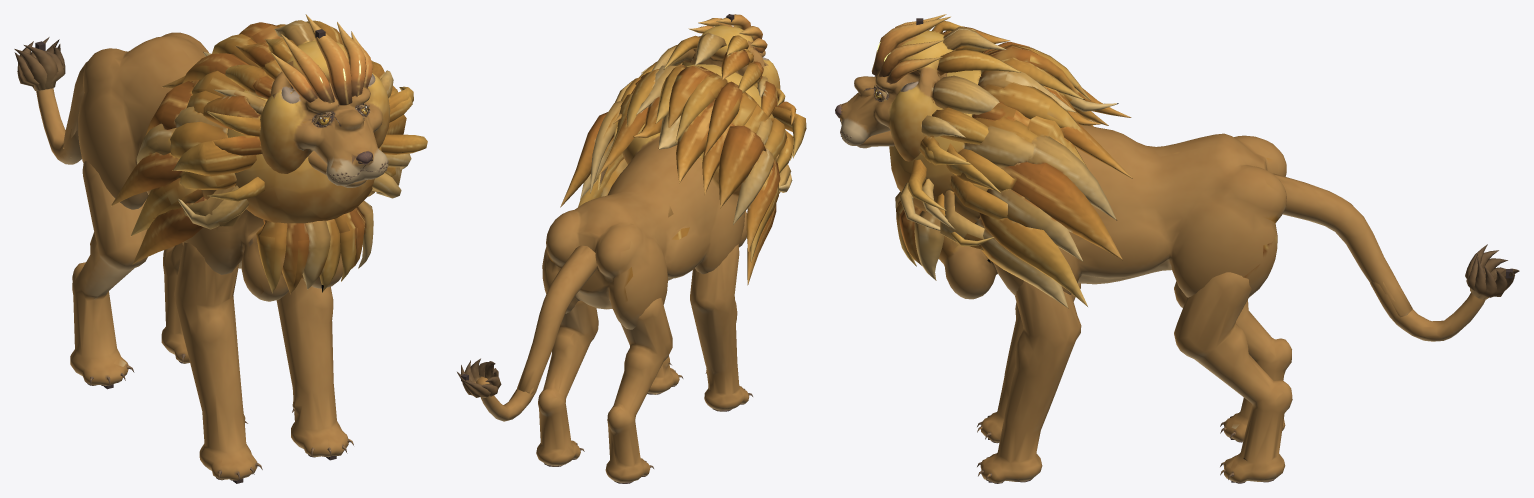
File: GoldenManeLion.fbx
3 views of the same model, side by side, from view 1: azimuth 30°, elevation 25°; view 2: azimuth 150°, elevation 25°; view 3: azimuth 270°, elevation 25° (orthographic). The views are drawn at different scales.
Parts seen in each view (by area): view 1: GoldenManeLion_Body, GoldenManeLion_Head, GoldenManeLion_LegFR, GoldenManeLion_LegBR, GoldenManeLion_LegFL, GoldenManeLion_Tail2, GoldenManeLion_LegBL, GoldenManeLion_Tail; view 2: GoldenManeLion_Body, GoldenManeLion_Head, GoldenManeLion_LegBR, GoldenManeLion_LegFR, GoldenManeLion_LegBL, GoldenManeLion_Tail, GoldenManeLion_Tail2, GoldenManeLion_LegFL; view 3: GoldenManeLion_Body, GoldenManeLion_Head, GoldenManeLion_LegBL, GoldenManeLion_LegFL, GoldenManeLion_Tail, GoldenManeLion_Tail2, GoldenManeLion_LegBR, GoldenManeLion_LegFR.
Boxes of the visible parts, left/top/right/bottom form: GoldenManeLion_Body: left=78, top=22, right=406, bottom=301; GoldenManeLion_Head: left=172, top=14, right=427, bottom=229; GoldenManeLion_LegFR: left=174, top=242, right=262, bottom=480; GoldenManeLion_LegBR: left=70, top=161, right=147, bottom=386; GoldenManeLion_LegFL: left=276, top=278, right=353, bottom=457; GoldenManeLion_Tail2: left=14, top=37, right=81, bottom=164; GoldenManeLion_LegBL: left=161, top=243, right=189, bottom=363; GoldenManeLion_Tail: left=63, top=61, right=87, bottom=148; GoldenManeLion_Body: left=542, top=64, right=793, bottom=329; GoldenManeLion_Head: left=638, top=14, right=806, bottom=192; GoldenManeLion_LegBR: left=605, top=298, right=672, bottom=483; GoldenManeLion_LegFR: left=690, top=244, right=752, bottom=411; GoldenManeLion_LegBL: left=536, top=293, right=598, bottom=466; GoldenManeLion_Tail: left=517, top=245, right=597, bottom=394; GoldenManeLion_Tail2: left=457, top=358, right=545, bottom=421; GoldenManeLion_LegFL: left=647, top=355, right=683, bottom=394; GoldenManeLion_Body: left=889, top=41, right=1286, bottom=308; GoldenManeLion_Head: left=835, top=14, right=1020, bottom=246; GoldenManeLion_LegBL: left=1174, top=272, right=1292, bottom=483; GoldenManeLion_LegFL: left=977, top=281, right=1081, bottom=483; GoldenManeLion_Tail: left=1273, top=173, right=1412, bottom=317; GoldenManeLion_Tail2: left=1370, top=244, right=1519, bottom=341; GoldenManeLion_LegBR: left=1174, top=281, right=1291, bottom=442; GoldenManeLion_LegFR: left=977, top=283, right=1080, bottom=443.
Bounding box in the file's own units: 0.7379 × 1.39 × 1.95.
5 materials, 1 textured.
